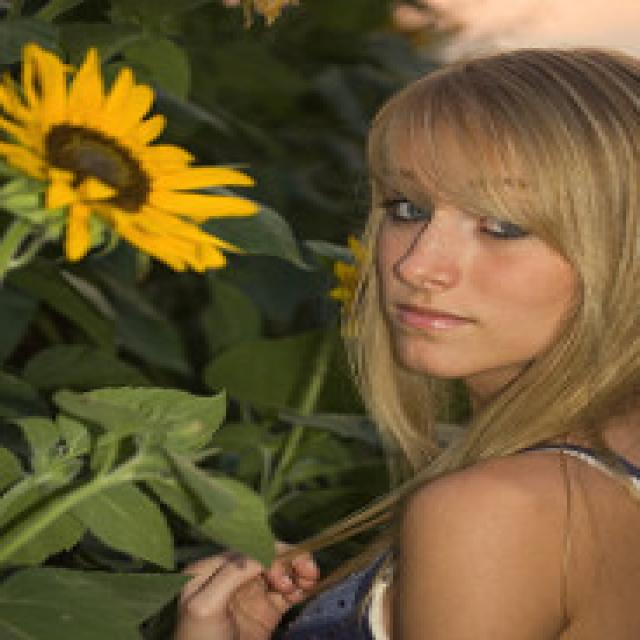sunflower: (0, 25, 275, 282)
